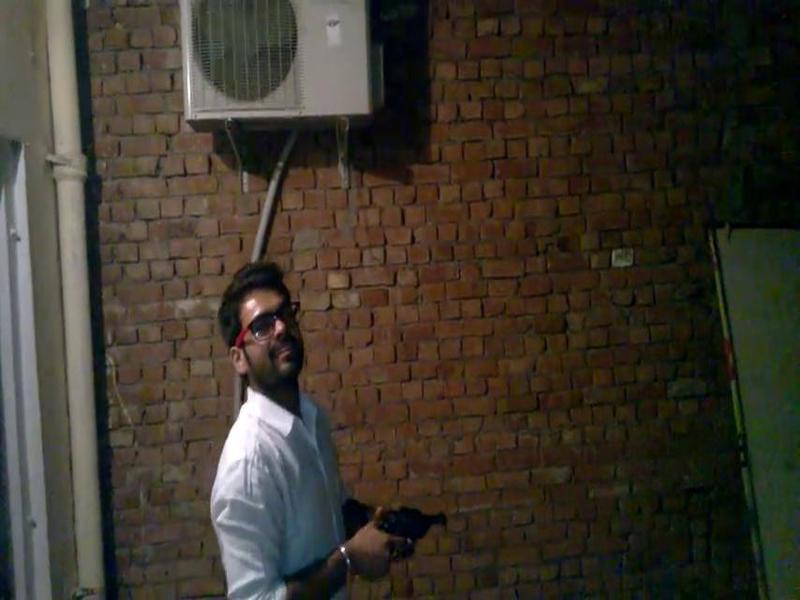Revolver: (345, 497, 452, 557)
